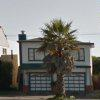Palm tree: (39, 10, 82, 93)
